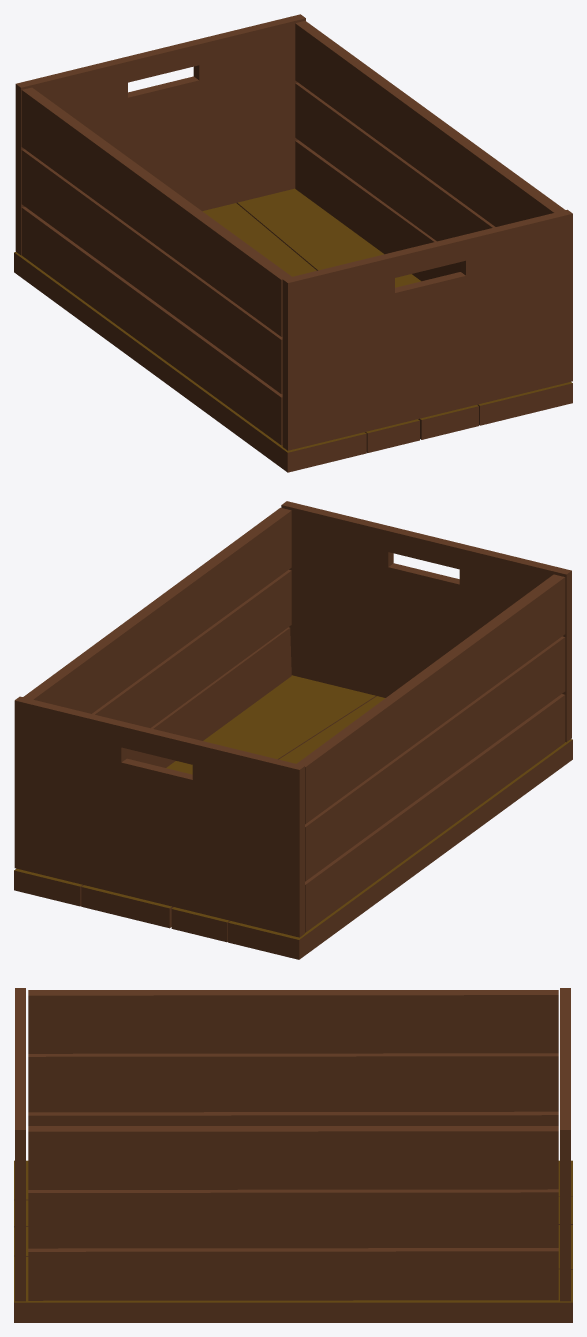
Rendered from crate01.obj.
3 views of the same model, one above another, from view 1: azimuth 30°, elevation 25°; view 2: azimuth 150°, elevation 25°; view 3: azimuth 270°, elevation 25° (orthographic). The views are drawn at different scales.
Parts seen in each view (by area): view 1: Cube.005_Cube.006; view 2: Cube.005_Cube.006; view 3: Cube.005_Cube.006.
Part boxes in pixels (left/top/right/bottom): Cube.005_Cube.006: left=14, top=14, right=572, bottom=472; Cube.005_Cube.006: left=14, top=501, right=572, bottom=959; Cube.005_Cube.006: left=14, top=988, right=572, bottom=1322.
Bounding box in the file's own units: 0.3011 × 0.1905 × 0.5.
